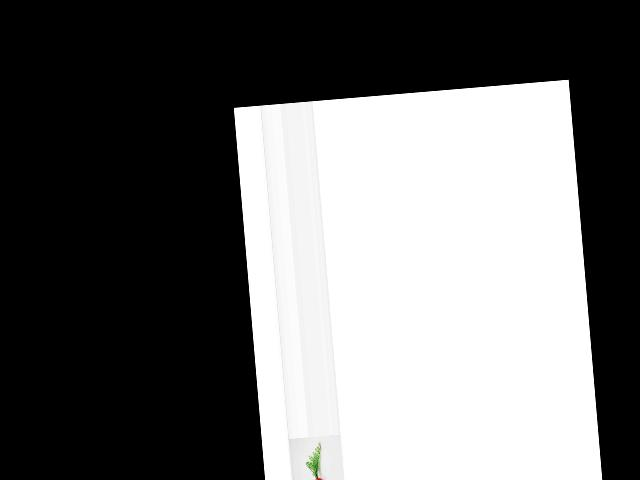carrot: (312, 474, 336, 480)
